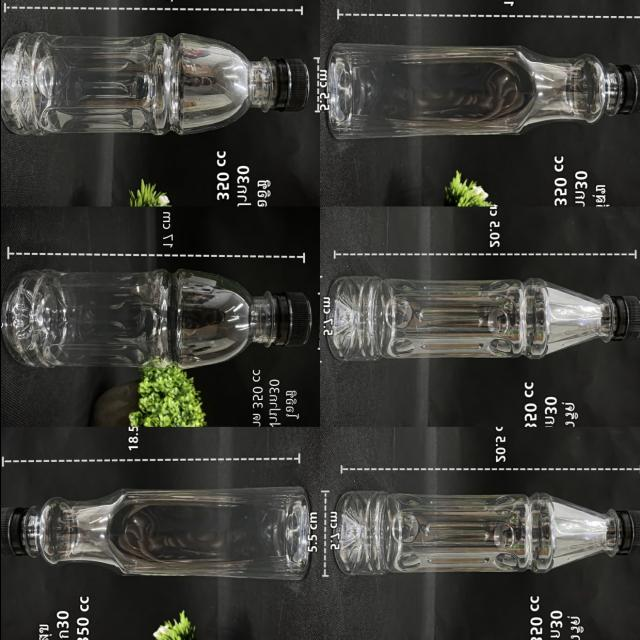plastik: (0, 33, 308, 136), (1, 269, 310, 368), (328, 43, 640, 138), (0, 487, 308, 579), (324, 275, 640, 361), (334, 491, 640, 575)
